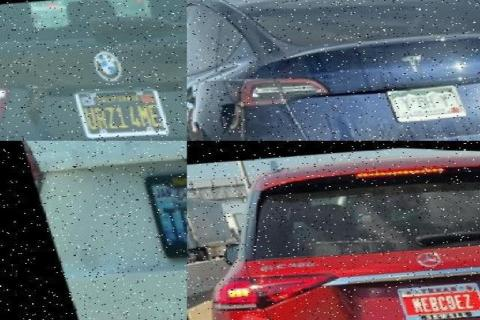LicensePlate: (70, 75, 168, 141), (138, 160, 188, 260), (393, 278, 478, 319), (382, 81, 463, 120)
